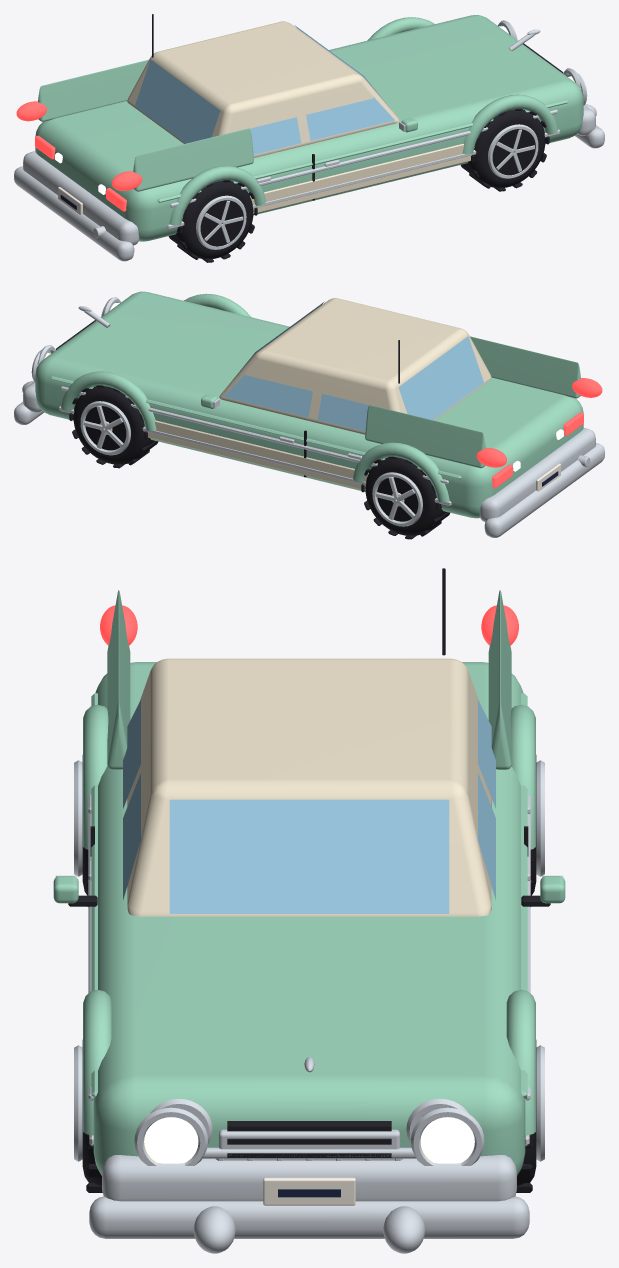
The model's file is classic_car.glb.
3 views of the same model, one above another, from view 1: azimuth 30°, elevation 25°; view 2: azimuth 150°, elevation 25°; view 3: azimuth 270°, elevation 25° (orthographic). The views are drawn at different scales.
Parts seen in each view (by area): view 1: classic_car; view 2: classic_car; view 3: classic_car.
Boxes of the visible parts, left/top/right/bottom form: classic_car: left=14, top=14, right=604, bottom=262; classic_car: left=14, top=291, right=604, bottom=539; classic_car: left=53, top=568, right=565, bottom=1253.
Size of the model in its own units: 5.58 by 1.84 by 2.43.
1 material, 1 textured.
